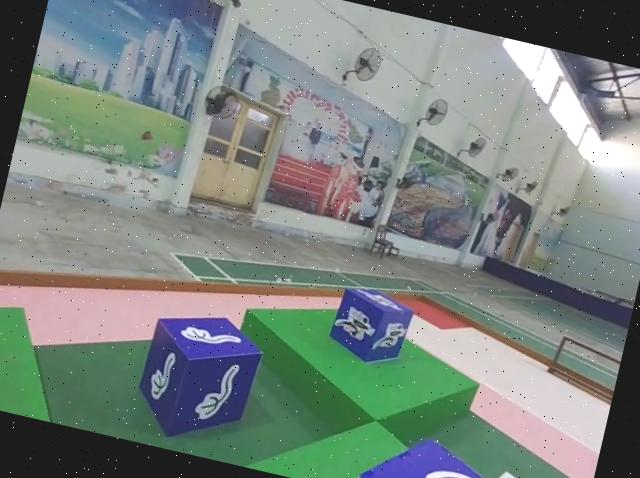R1 Blue: (321, 282, 415, 373)
R2 Fake Blue: (345, 420, 567, 478)
R2 Real Blue: (127, 302, 267, 455)
